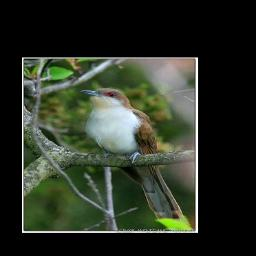Cuckoo: (78, 87, 189, 229)
